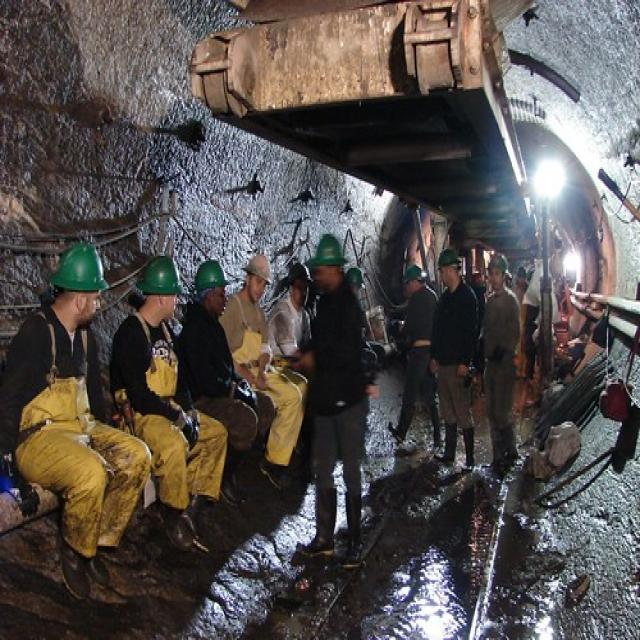Safety-Helmet: (49, 241, 110, 295), (137, 254, 183, 297), (307, 228, 348, 270), (192, 258, 230, 294), (242, 249, 273, 285), (434, 244, 465, 271), (486, 249, 511, 275)
